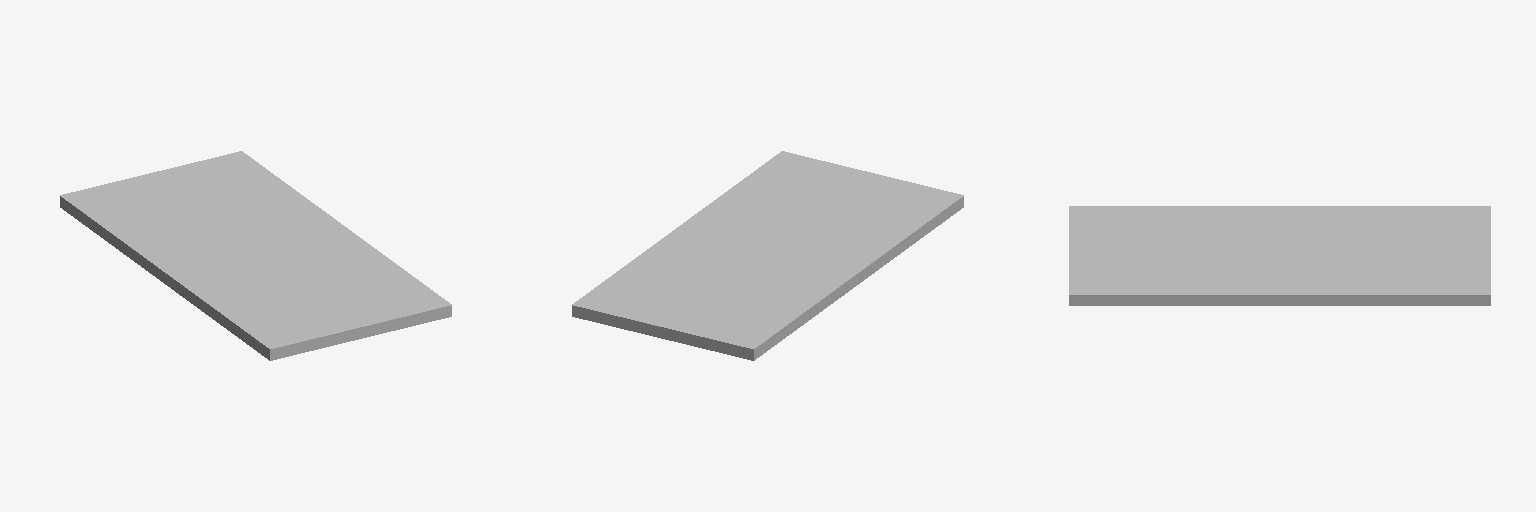
The model's file is Tower_Block_Platform_6x3.obj.
3 renders of one model, left to right at view 1: azimuth 30°, elevation 25°; view 2: azimuth 150°, elevation 25°; view 3: azimuth 270°, elevation 25°, orthographic.
Parts seen in each view (by area): view 1: Tower_Block_Platform_6x3; view 2: Tower_Block_Platform_6x3; view 3: Tower_Block_Platform_6x3.
Boxes of the visible parts, <box> form: Tower_Block_Platform_6x3: <box>60,151,451,360</box>; Tower_Block_Platform_6x3: <box>572,151,963,360</box>; Tower_Block_Platform_6x3: <box>1069,206,1490,305</box>.
Size of the model in its own units: 4.96 by 0.3 by 9.91.